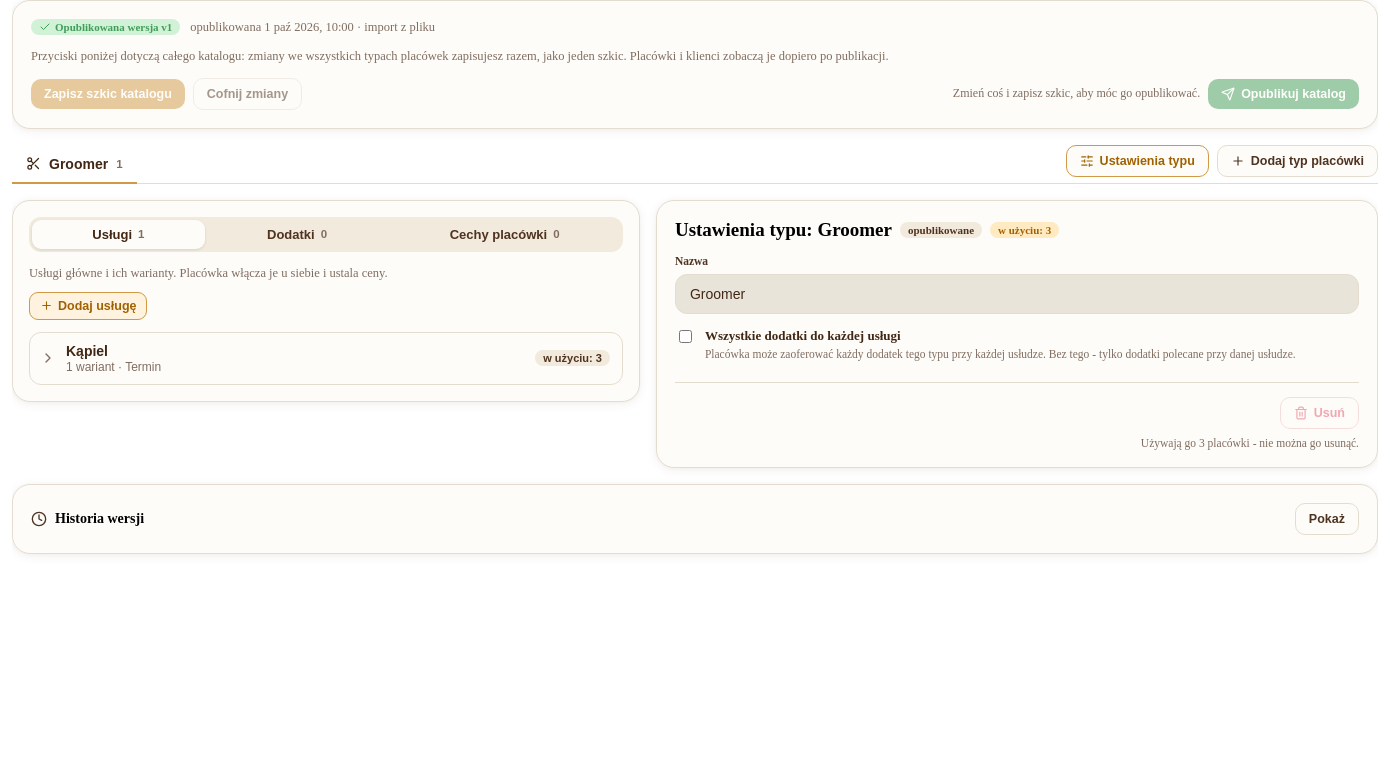
Test case: Katalog usług › will not save the catalog while an element has no name
Check: the text "Opublikowana wersja v1" is shown, box [31, 19, 180, 35]
Click the button "Kąpiel 1 wariant · Termin w użyciu: 3" at [87, 351], box [62, 333, 622, 384]
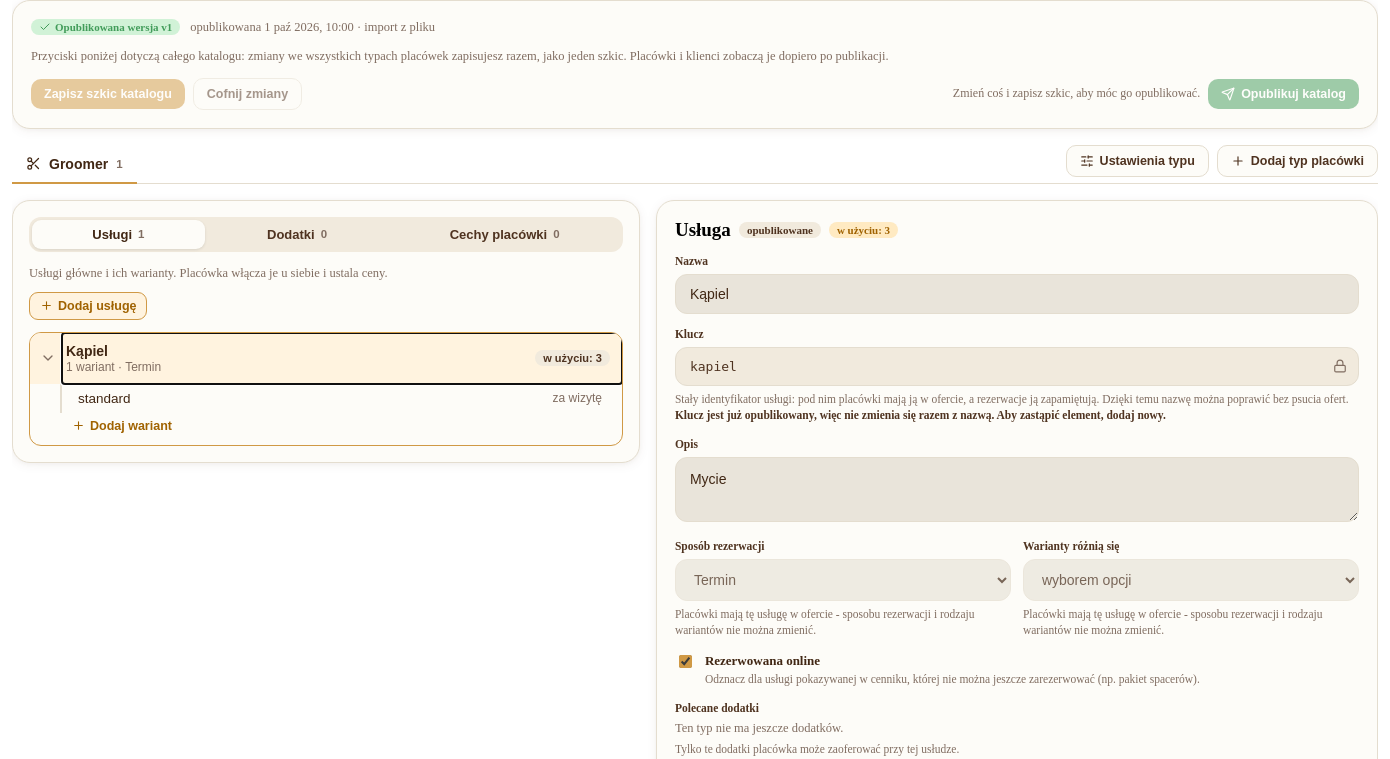
Clear the field labelled "Nazwa" at [1017, 294], box [675, 274, 1359, 314]
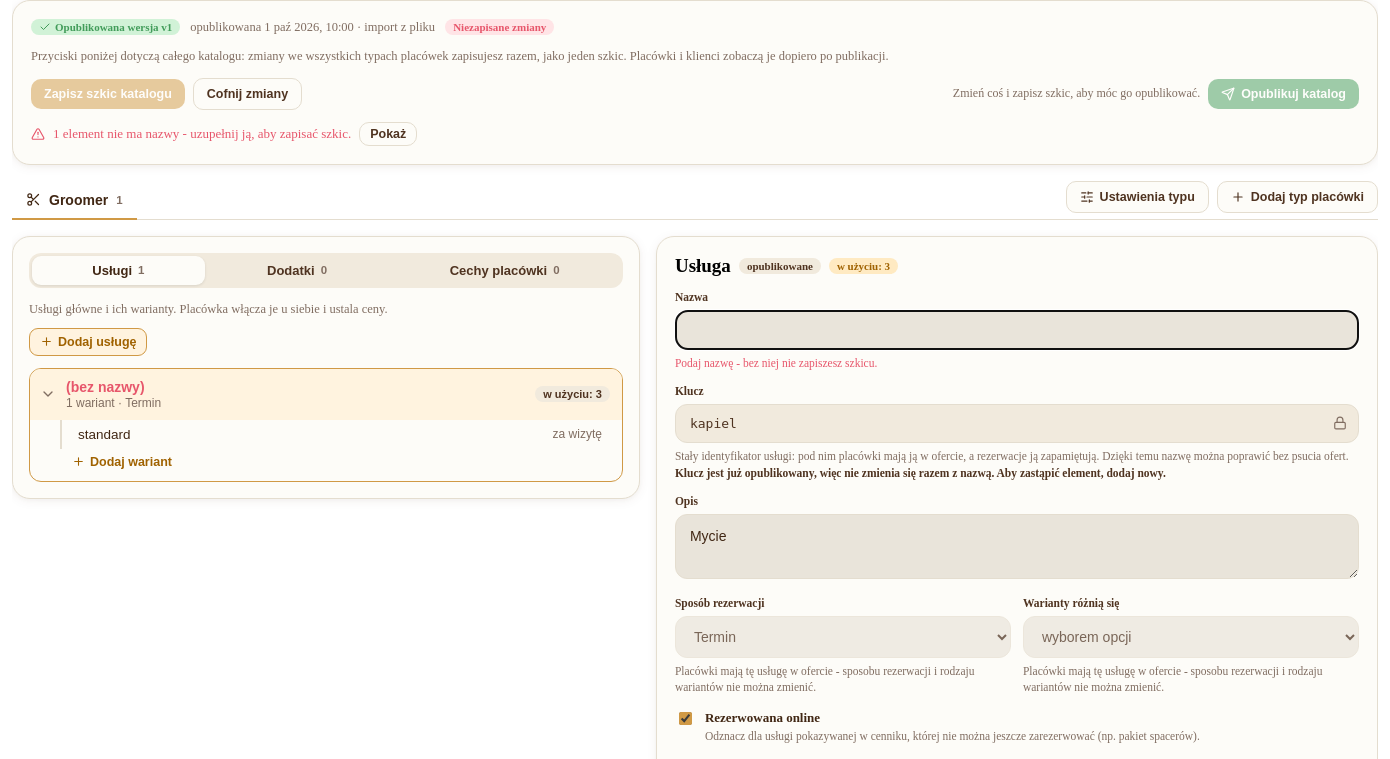
Check: the button "Zapisz szkic katalogu" is disabled, box [31, 79, 185, 109]
Check: the text "Podaj nazwę - bez niej nie zapiszesz szkicu." is shown, box [675, 357, 877, 369]
Check: the text "1 element nie ma nazwy - uzupełnij ją, aby zapisać szkic." is shown, box [53, 126, 351, 141]
Type "Kąpiel i suszenie" into the field labelled "Nazwa" at [1017, 330], box [675, 310, 1359, 350]
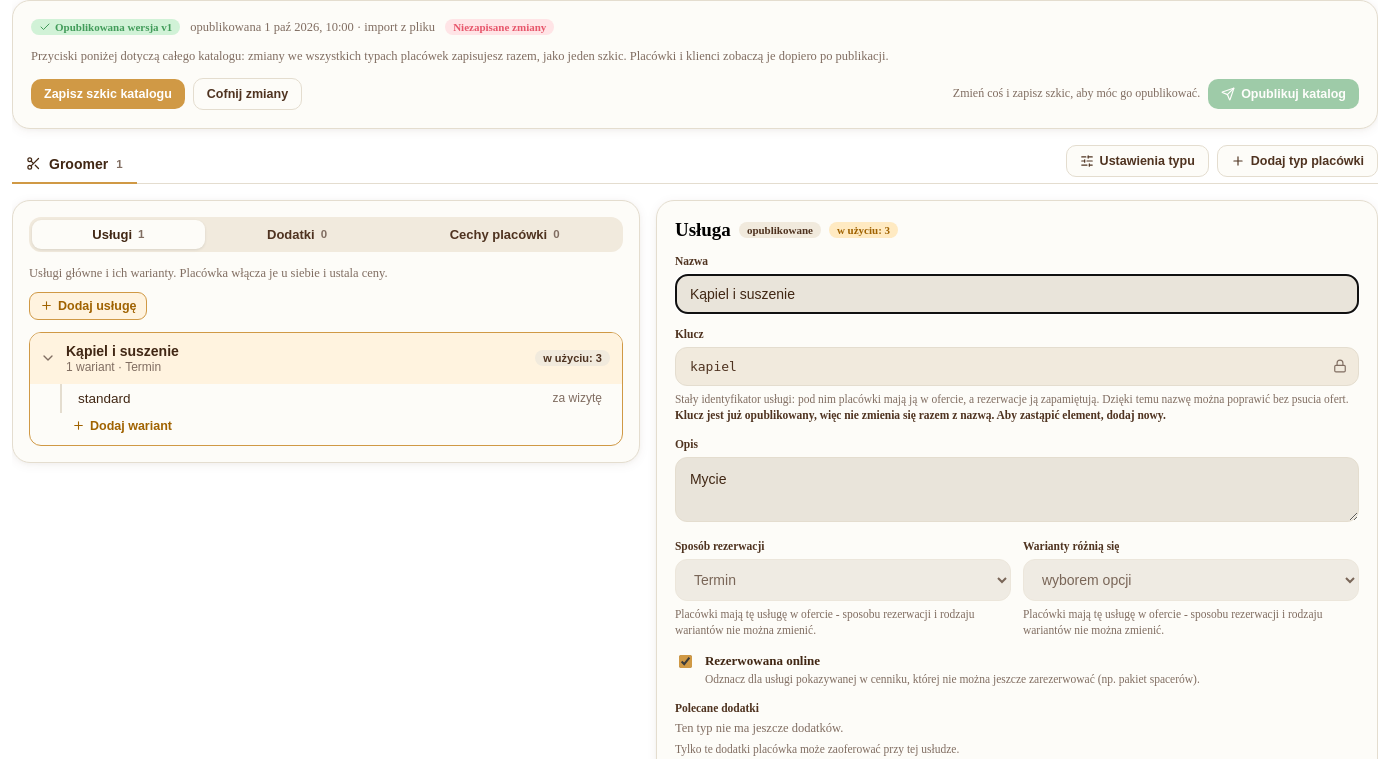
Check: the button "Zapisz szkic katalogu" is enabled, box [31, 79, 185, 109]
